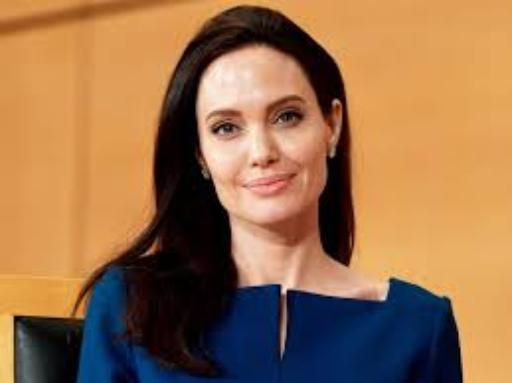left_eye: (274, 111, 306, 128)
left_lip_corner: (289, 170, 304, 180)
right_eye: (212, 122, 245, 138)
right_lip_corner: (238, 182, 252, 192)
